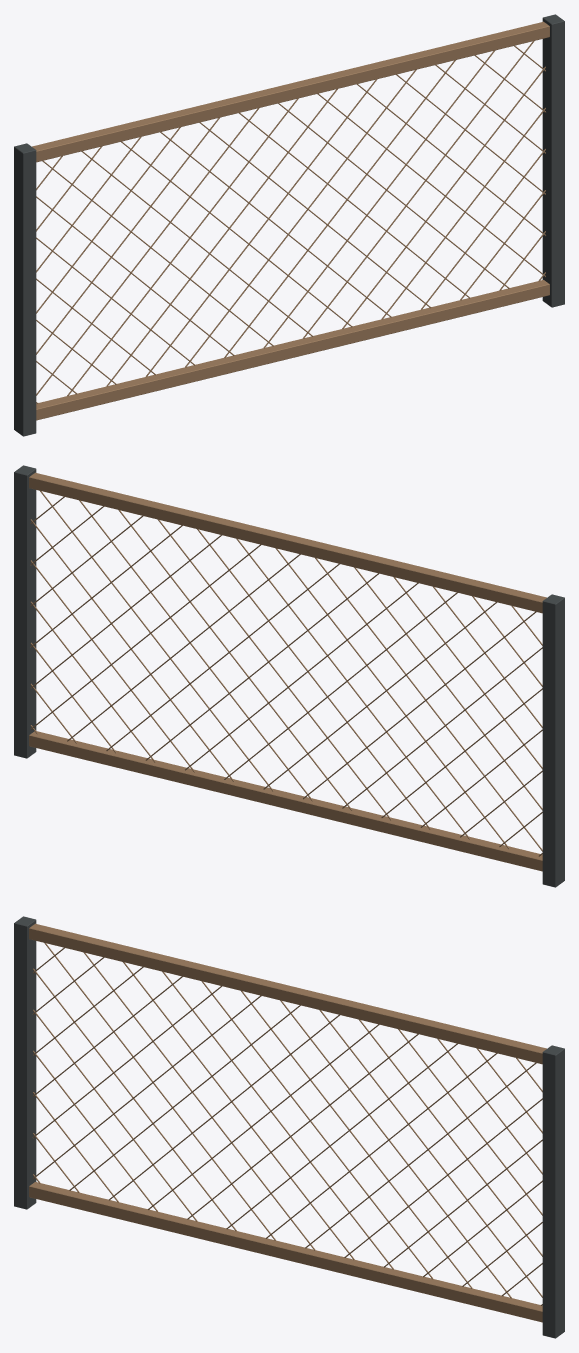
File: SM_LS_FenceSection.fbx
3 renders of one model, top to bottom at view 1: azimuth 30°, elevation 25°; view 2: azimuth 150°, elevation 25°; view 3: azimuth 330°, elevation 25°, orthographic.
Visible parts, largest first — view 1: SM_LS_FenceSection; view 2: SM_LS_FenceSection; view 3: SM_LS_FenceSection.
Boxes of the visible parts, x1=… form: SM_LS_FenceSection: x1=14, y1=14, x2=564, y2=436; SM_LS_FenceSection: x1=14, y1=465, x2=564, y2=887; SM_LS_FenceSection: x1=14, y1=916, x2=564, y2=1338.
Size of what is drawn, in the model's own units: 4 by 0.12 by 2.
